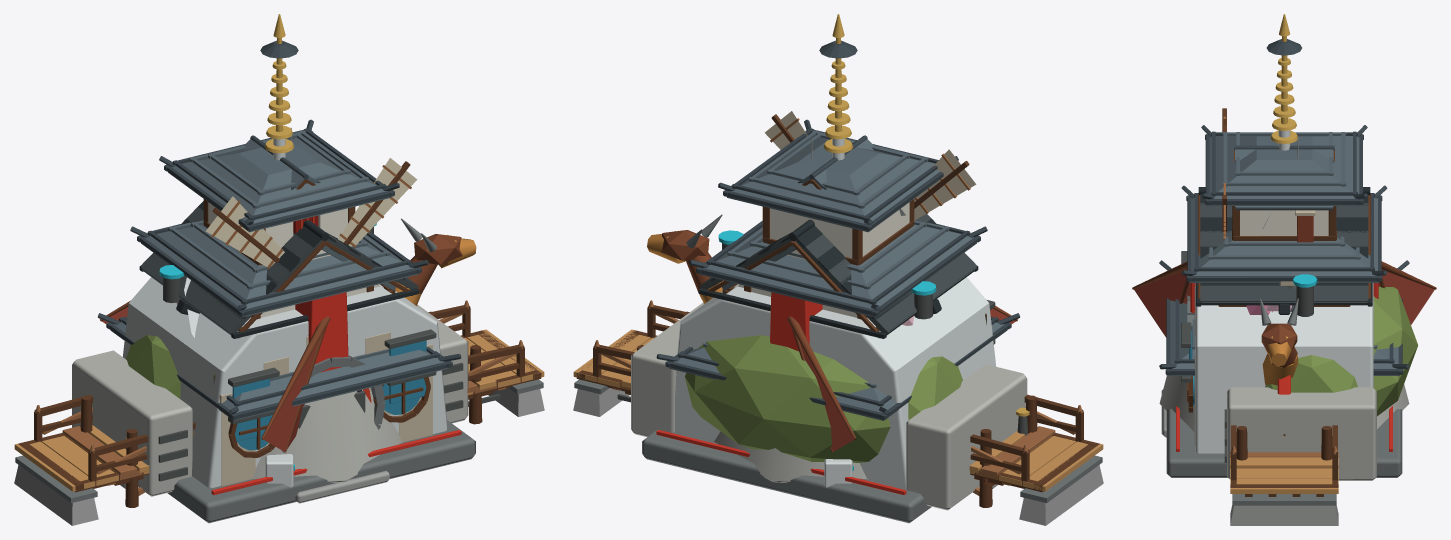
Rendered from worldclaw-kit.glb.
The picture shows the model from 3 angles, left to right: view 1: azimuth 30°, elevation 25°; view 2: azimuth 150°, elevation 25°; view 3: azimuth 270°, elevation 25°; orthographic projection. The views are drawn at different scales.
Visible parts, largest first — view 1: GEO-MERGED_pagoda_slate_blue_gray, GEO-MERGED_building_futuristic_facility_tech_ceramic_white, GEO-MERGED_pagoda_slate_cleft_edge, GEO-MERGED_building_futuristic_facility_concrete_warm, GEO-MERGED_building_futuristic_facility_concrete_dark_trim, GEO-MERGED_building_fortified_bunker_concrete_warm, GEO-MERGED_bridge_wood_dark_trim, GEO-MERGED_building_timber_frame_white_tile_tile_charcoal, GEO-MERGED_bridge_wood_sunlit, GEO-MERGED_building_futuristic_facility_metal_track, GEO-MERGED_building_hobbit_round_door_stone_limestone_trim, GEO-MERGED_building_futuristic_facility_tech_signal_red (+22 smaller); view 2: GEO-MERGED_pagoda_slate_blue_gray, GEO-MERGED_building_futuristic_facility_tech_ceramic_white, GEO-MERGED_building_hobbit_round_door_earth_turf, GEO-MERGED_building_futuristic_facility_concrete_warm, GEO-MERGED_pagoda_slate_cleft_edge, GEO-MERGED_building_futuristic_facility_concrete_dark_trim, GEO-MERGED_bridge_wood_dark_trim, GEO-MERGED_bridge_wood_sunlit, GEO-MERGED_building_timber_frame_white_tile_tile_charcoal, GEO-MERGED_pagoda_plaster_lime_white, GEO-MERGED_building_futuristic_facility_tech_signal_red, GEO-MERGED_bridge_stone_granite (+13 smaller); view 3: GEO-MERGED_pagoda_slate_blue_gray, GEO-MERGED_building_futuristic_facility_tech_ceramic_white, GEO-MERGED_building_futuristic_facility_concrete_warm, GEO-MERGED_pagoda_slate_cleft_edge, GEO-MERGED_building_hobbit_round_door_earth_turf, GEO-MERGED_building_timber_frame_white_tile_tile_charcoal, GEO-MERGED_building_futuristic_facility_concrete_dark_trim, GEO-MERGED_dragon_dragon_wing_membrane, GEO-MERGED_bridge_wood_sunlit, GEO-MERGED_bridge_stone_granite, GEO-MERGED_building_timber_frame_white_tile_tile_charcoal_ed, GEO-MERGED_pagoda_plaster_lime_white (+16 smaller).
Part boxes in pixels (x1,y1,x2,y2): GEO-MERGED_pagoda_slate_blue_gray: [110, 130, 448, 420]; GEO-MERGED_building_futuristic_facility_tech_ceramic_white: [123, 277, 447, 487]; GEO-MERGED_pagoda_slate_cleft_edge: [98, 40, 461, 419]; GEO-MERGED_building_futuristic_facility_concrete_warm: [72, 304, 468, 496]; GEO-MERGED_building_futuristic_facility_concrete_dark_trim: [167, 420, 475, 523]; GEO-MERGED_building_fortified_bunker_concrete_warm: [252, 388, 402, 482]; GEO-MERGED_bridge_wood_dark_trim: [18, 305, 541, 492]; GEO-MERGED_building_timber_frame_white_tile_tile_charcoal: [140, 207, 418, 335]; GEO-MERGED_bridge_wood_sunlit: [14, 329, 544, 491]; GEO-MERGED_building_futuristic_facility_metal_track: [158, 227, 463, 481]; GEO-MERGED_building_hobbit_round_door_stone_limestone_trim: [219, 327, 433, 486]; GEO-MERGED_building_futuristic_facility_tech_signal_red: [211, 292, 461, 494]; GEO-MERGED_pagoda_slate_blue_gray: [669, 130, 1007, 420]; GEO-MERGED_building_futuristic_facility_tech_ceramic_white: [675, 277, 996, 487]; GEO-MERGED_building_hobbit_round_door_earth_turf: [685, 335, 962, 462]; GEO-MERGED_building_futuristic_facility_concrete_warm: [631, 302, 1027, 510]; GEO-MERGED_pagoda_slate_cleft_edge: [656, 40, 1019, 419]; GEO-MERGED_building_futuristic_facility_concrete_dark_trim: [642, 429, 931, 523]; GEO-MERGED_bridge_wood_dark_trim: [576, 305, 1099, 492]; GEO-MERGED_bridge_wood_sunlit: [573, 329, 1103, 491]; GEO-MERGED_building_timber_frame_white_tile_tile_charcoal: [699, 214, 977, 335]; GEO-MERGED_pagoda_plaster_lime_white: [751, 202, 909, 317]; GEO-MERGED_building_futuristic_facility_tech_signal_red: [656, 292, 906, 494]; GEO-MERGED_bridge_stone_granite: [573, 388, 1103, 525]; GEO-MERGED_pagoda_slate_blue_gray: [1168, 132, 1399, 375]; GEO-MERGED_building_futuristic_facility_tech_ceramic_white: [1195, 283, 1373, 453]; GEO-MERGED_building_futuristic_facility_concrete_warm: [1227, 387, 1376, 480]; GEO-MERGED_pagoda_slate_cleft_edge: [1159, 39, 1409, 374]; GEO-MERGED_building_hobbit_round_door_earth_turf: [1265, 286, 1418, 416]; GEO-MERGED_building_timber_frame_white_tile_tile_charcoal: [1200, 203, 1368, 305]; GEO-MERGED_building_futuristic_facility_concrete_dark_trim: [1166, 375, 1402, 477]; GEO-MERGED_dragon_dragon_wing_membrane: [1134, 270, 1434, 337]; GEO-MERGED_bridge_wood_sunlit: [1230, 468, 1338, 493]; GEO-MERGED_bridge_stone_granite: [1230, 505, 1338, 525]; GEO-MERGED_building_timber_frame_white_tile_tile_charcoal_ed: [1196, 187, 1372, 306]; GEO-MERGED_pagoda_plaster_lime_white: [1240, 210, 1328, 235].
Bounding box in the file's own units: 16 × 14 × 9.57.
